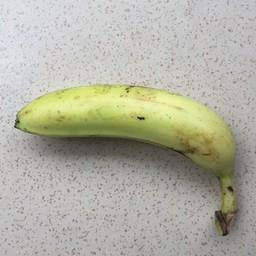Banana Ripe: (2, 77, 256, 194)
